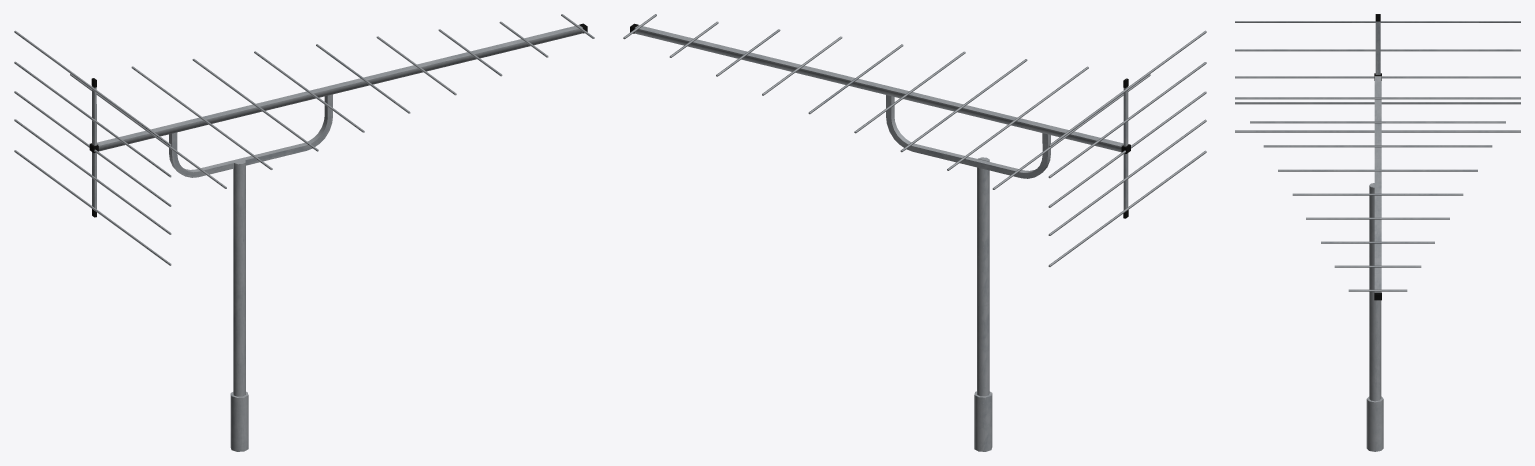
File: tvdish.glb
3 renders of one model, left to right at view 1: azimuth 30°, elevation 25°; view 2: azimuth 150°, elevation 25°; view 3: azimuth 270°, elevation 25°, orthographic. The views are drawn at different scales.
Visible parts, largest first — view 1: Antenna; view 2: Antenna; view 3: Antenna.
Part boxes in pixels (x1,y1,x2,y2): Antenna: (14,14,594,451); Antenna: (623,14,1206,451); Antenna: (1235,14,1520,451).
Bounding box in the file's own units: 1.84 × 1.43 × 1.01.
1 material, 1 textured.
